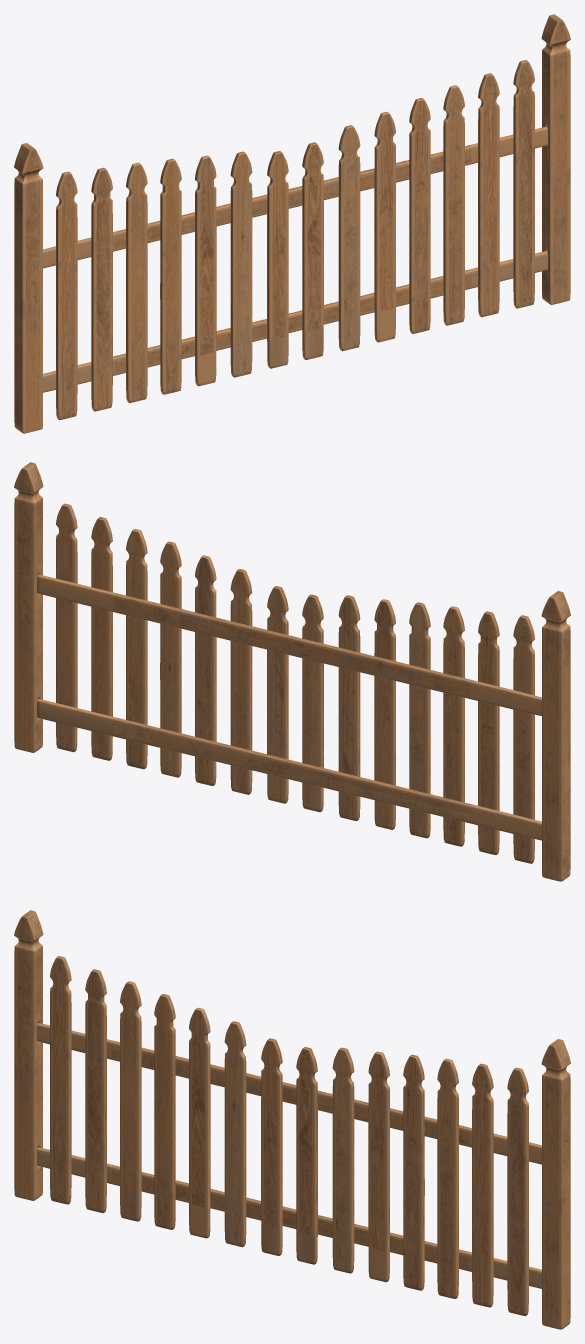
The model's file is fence.glb.
3 views of the same model, one above another, from view 1: azimuth 30°, elevation 25°; view 2: azimuth 150°, elevation 25°; view 3: azimuth 330°, elevation 25° (orthographic).
Visible parts, largest first — view 1: 13077_Gothic_Picket_Fence_Panel_v3_l3; view 2: 13077_Gothic_Picket_Fence_Panel_v3_l3; view 3: 13077_Gothic_Picket_Fence_Panel_v3_l3.
Boxes of the visible parts, <box> form: 13077_Gothic_Picket_Fence_Panel_v3_l3: <box>14,14,570,433</box>; 13077_Gothic_Picket_Fence_Panel_v3_l3: <box>14,462,570,881</box>; 13077_Gothic_Picket_Fence_Panel_v3_l3: <box>14,910,570,1329</box>.
Size of the model in its own units: 205 by 101 by 5.8.
1 material, 1 textured.
